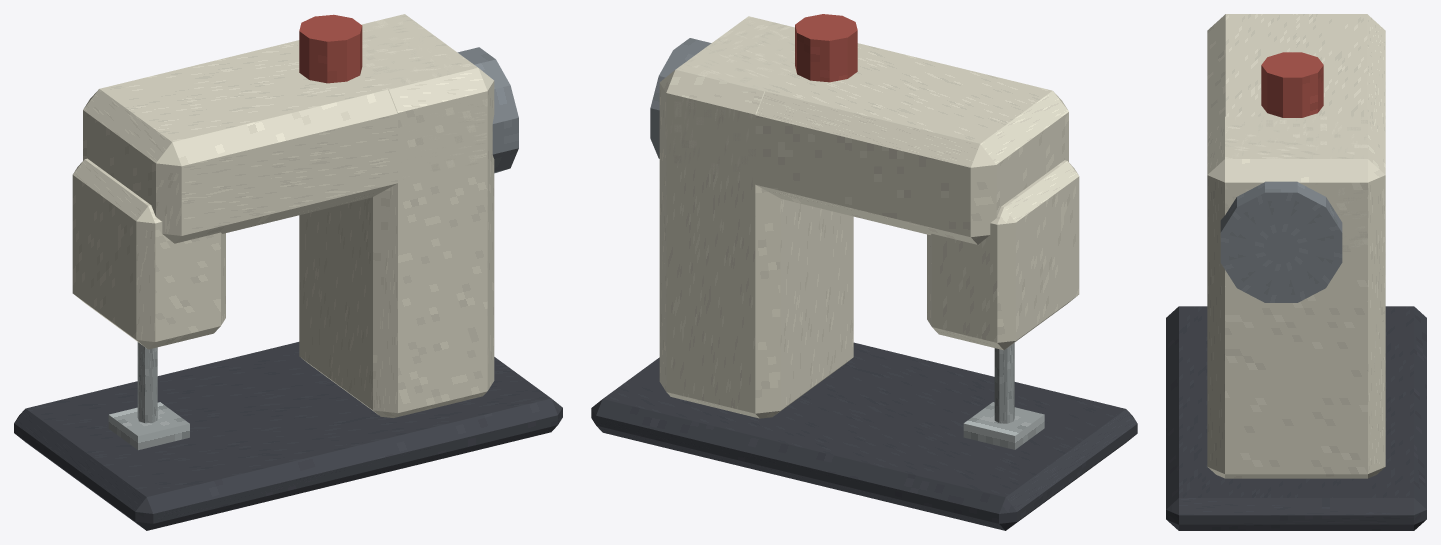
Rendered from sewing_machine.glb.
The picture shows the model from 3 angles, left to right: view 1: azimuth 30°, elevation 25°; view 2: azimuth 150°, elevation 25°; view 3: azimuth 270°, elevation 25°; orthographic projection. The views are drawn at different scales.
Parts seen in each view (by area): view 1: block_upright, block_cantilevered arm, block_sewing base, block_needle housing, block_thread spool, block_hand wheel, block_presser foot, block_presser bar; view 2: block_upright, block_cantilevered arm, block_sewing base, block_needle housing, block_thread spool, block_presser foot, block_presser bar, block_hand wheel; view 3: block_upright, block_sewing base, block_cantilevered arm, block_hand wheel, block_thread spool.
Boxes of the visible parts, x1,y1,x2,y2 form: block_upright: (299,14,494,417); block_cantilevered arm: (83,14,486,243); block_sewing base: (14,342,562,530); block_needle housing: (72,158,225,349); block_thread spool: (299,14,362,83); block_hand wheel: (457,47,518,173); block_presser foot: (108,402,189,450); block_presser bar: (137,342,157,423); block_upright: (659,16,853,418); block_cantilevered arm: (666,17,1068,244); block_sewing base: (591,342,1137,530); block_needle housing: (927,160,1079,350); block_thread spool: (795,14,857,82); block_presser foot: (963,402,1044,449); block_presser bar: (994,343,1014,423); block_hand wheel: (650,38,711,158); block_upright: (1207,116,1385,478); block_sewing base: (1166,306,1426,530); block_cantilevered arm: (1207,14,1385,250); block_hand wheel: (1220,181,1342,302); block_thread spool: (1261,52,1323,117).
Size of the model in its own units: 0.405 by 0.3626 by 0.2204.
1 material, 1 textured.
